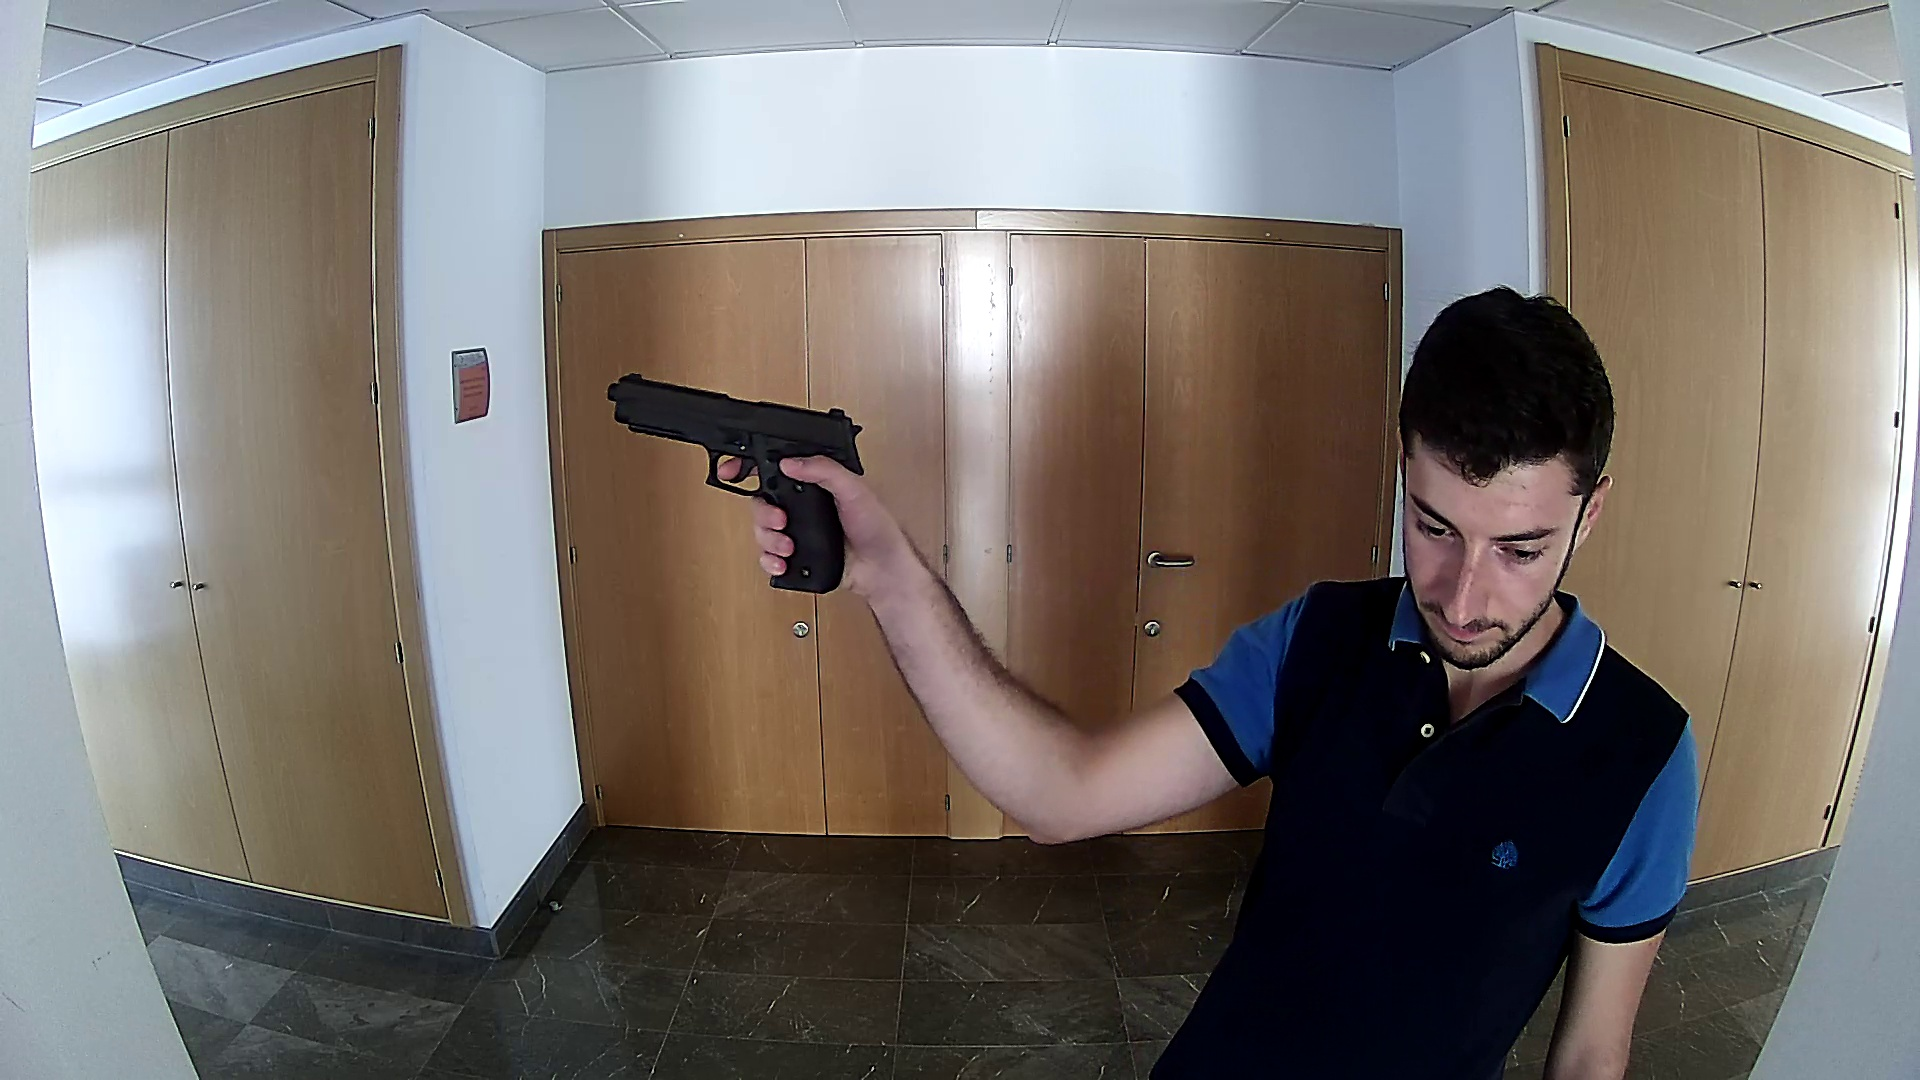pistol: (607, 373, 866, 596)
